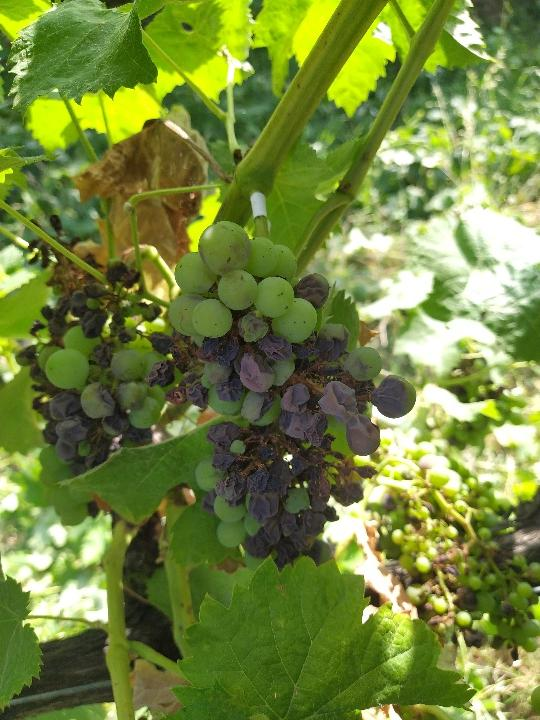grape: (145, 219, 420, 570), (15, 212, 181, 479)
